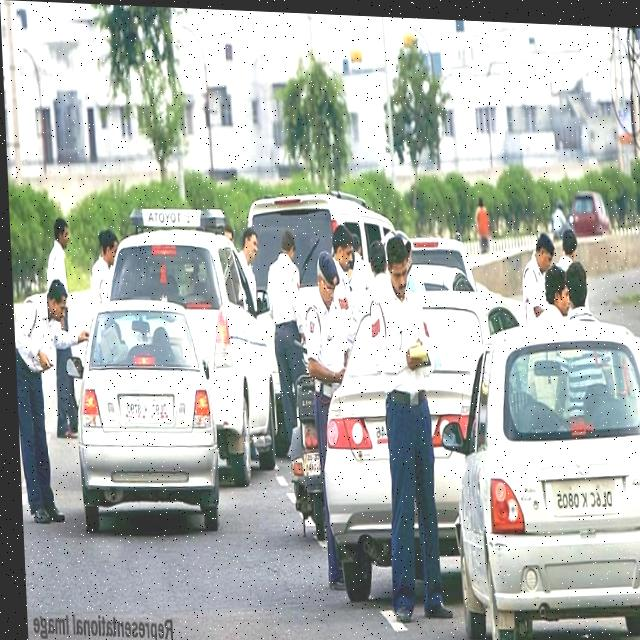plate: (546, 471, 612, 517), (117, 394, 168, 425)
